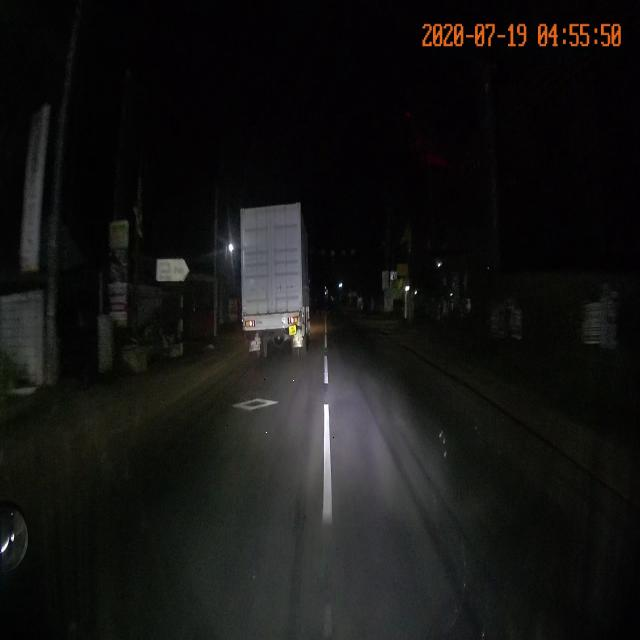diamond: (224, 380, 336, 450)
